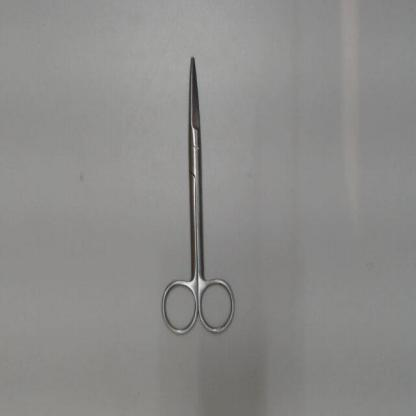Curved Mayo Scissors: (157, 51, 239, 342)
